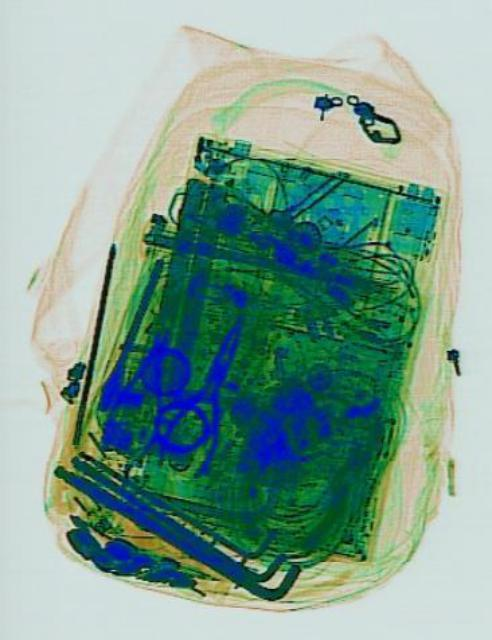Pliers: (149, 300, 261, 486), (99, 318, 184, 460)
